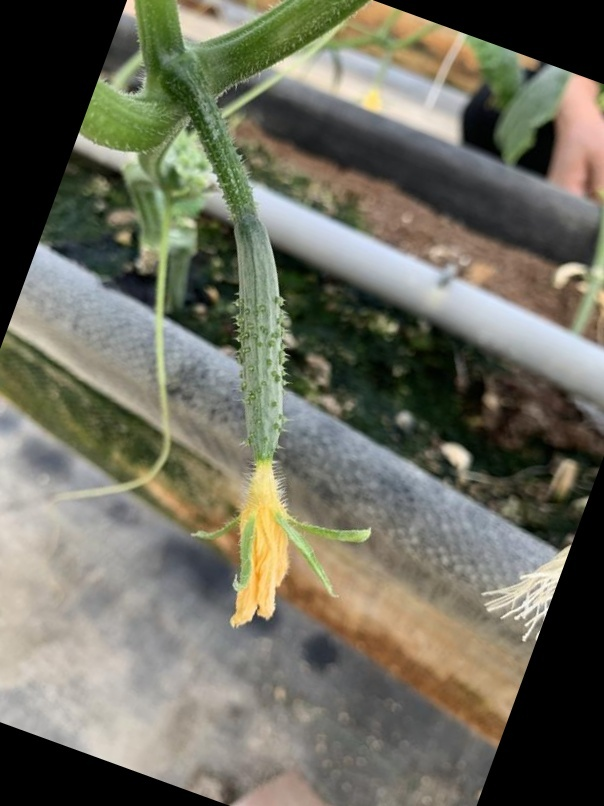bear: (154, 197, 353, 641)
